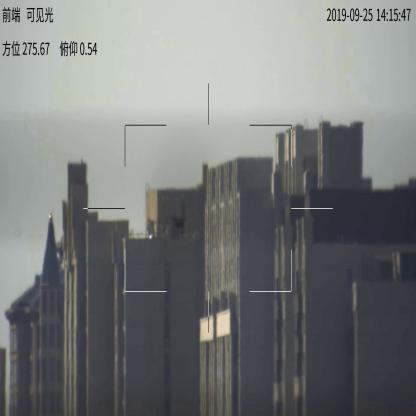uav: (171, 212, 188, 235)
